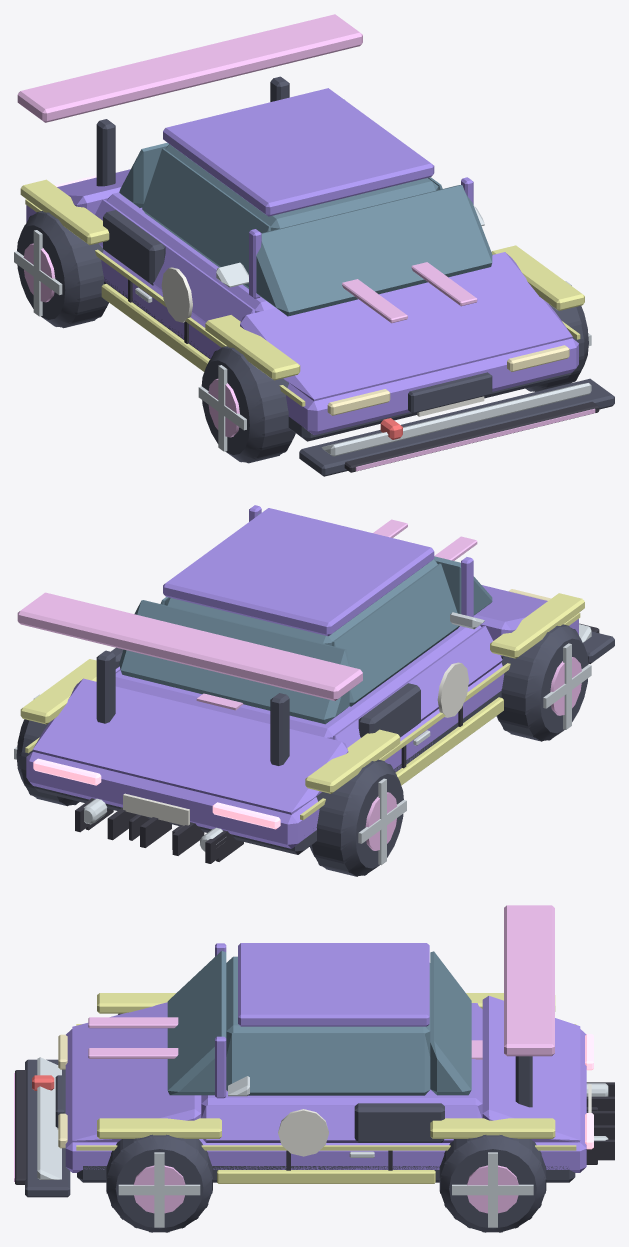
The model's file is gridline_gt.fbx.
3 renders of one model, top to bottom at view 1: azimuth 30°, elevation 25°; view 2: azimuth 150°, elevation 25°; view 3: azimuth 270°, elevation 25°, orthographic. The views are drawn at different scales.
Parts seen in each view (by area): view 1: Body, Glass, Accent4, Trim2, Accent, Wheel_FR, Wheel_RR, Accent3, Light, Metal, Trim, Light2 (+3 smaller); view 2: Body, Glass, Accent4, Accent, Trim2, Wheel_RR, Wheel_FR, Trim, Metal, Accent2, Light3, Metal2 (+3 smaller); view 3: Body, Glass, Accent, Trim2, Accent4, Wheel_FL, Wheel_RL, Metal, Trim, Accent3, Metal2, Light (+3 smaller).
Part boxes in pixels (<box>): Body: <box>26,88,578,435</box>; Glass: <box>119,99,492,316</box>; Accent4: <box>17,14,362,122</box>; Trim2: <box>96,76,614,476</box>; Accent: <box>20,179,584,406</box>; Wheel_FR: <box>201,346,295,463</box>; Wheel_RR: <box>17,211,108,328</box>; Accent3: <box>216,206,591,456</box>; Light: <box>342,262,595,471</box>; Metal: <box>14,230,591,451</box>; Trim: <box>128,279,599,472</box>; Light2: <box>327,345,569,415</box>; Body: <box>26,505,578,848</box>; Glass: <box>119,513,492,724</box>; Accent4: <box>17,592,362,700</box>; Accent: <box>20,593,584,820</box>; Trim2: <box>33,631,614,854</box>; Wheel_RR: <box>310,759,403,876</box>; Wheel_FR: <box>496,624,588,741</box>; Trim: <box>75,623,599,863</box>; Metal: <box>14,643,591,865</box>; Accent2: <box>123,662,468,825</box>; Light3: <box>33,758,280,829</box>; Metal2: <box>365,657,581,850</box>; Body: <box>65,943,586,1172</box>; Glass: <box>167,950,471,1095</box>; Accent: <box>76,993,576,1183</box>; Trim2: <box>25,1056,575,1197</box>; Accent4: <box>226,905,554,1091</box>; Wheel_FL: <box>106,1134,212,1232</box>; Wheel_RL: <box>439,1135,546,1232</box>; Metal: <box>118,1083,608,1227</box>; Trim: <box>15,1070,614,1184</box>; Accent3: <box>37,1057,249,1179</box>; Metal2: <box>133,1165,518,1213</box>; Light: <box>14,1017,482,1181</box>.
Bounding box in the file's own units: 3.2 × 1.83 × 5.31.
